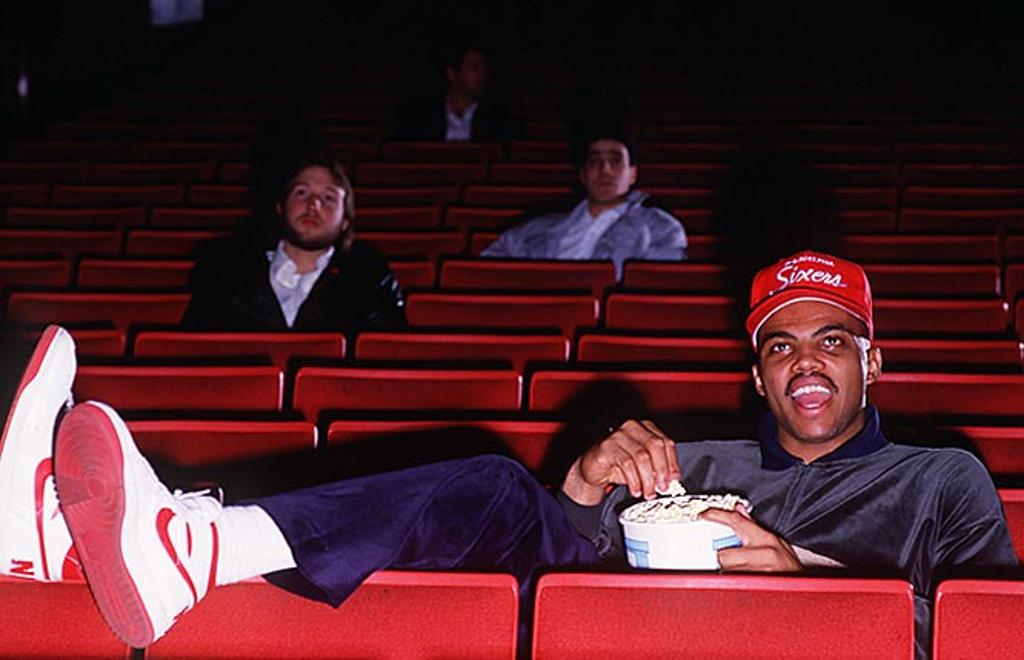face: (757, 300, 867, 444), (283, 167, 346, 236), (583, 141, 630, 202)
